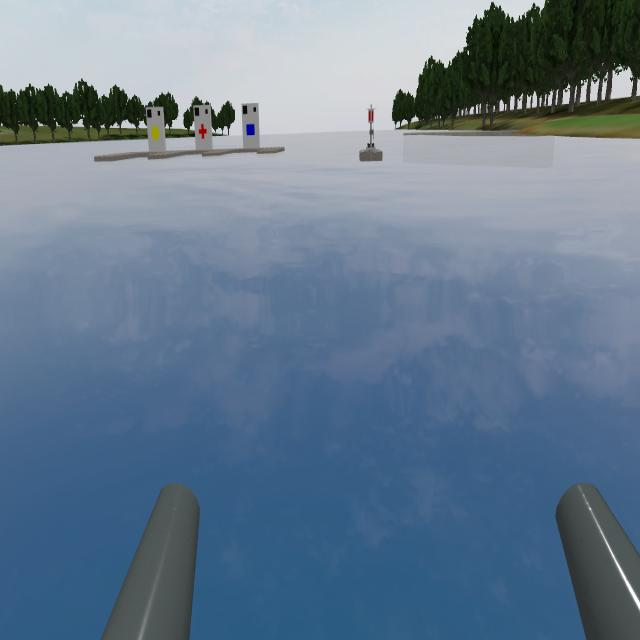red_pole: (364, 97, 380, 130)
